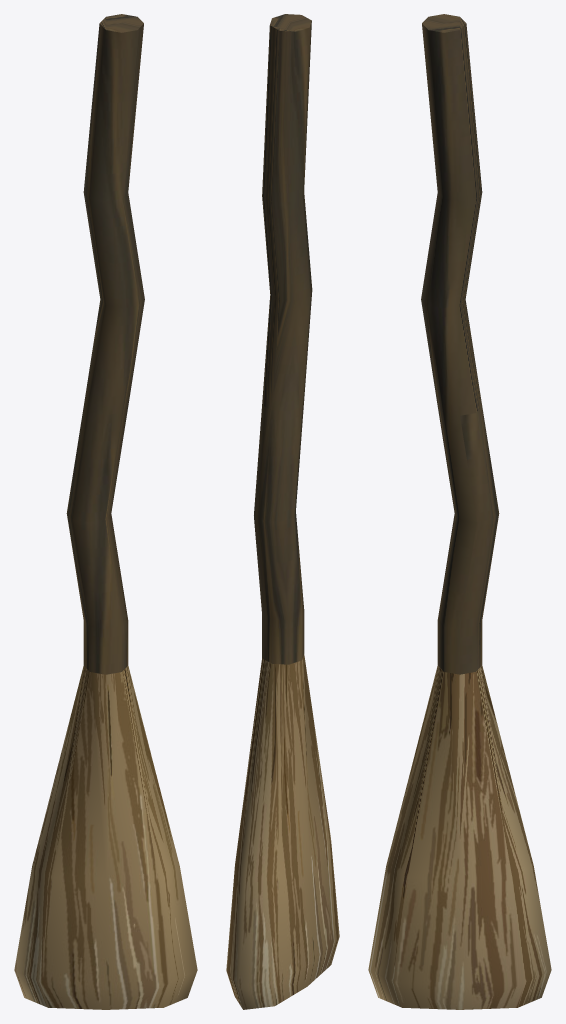
The model's file is Broom.FBX.
3 views of the same model, side by side, from view 1: azimuth 90°, elevation 25°; view 2: azimuth 150°, elevation 25°; view 3: azimuth 270°, elevation 25° (orthographic). The views are drawn at different scales.
Parts seen in each view (by area): view 1: Broom; view 2: Broom; view 3: Broom.
Boxes of the visible parts, <box> form: Broom: <box>14,14,197,1009</box>; Broom: <box>226,14,339,1009</box>; Broom: <box>368,14,551,1009</box>.
Bounding box in the file's own units: 0.1228 × 1.84 × 0.3145.
Materials: 1 (1 with a texture image).
